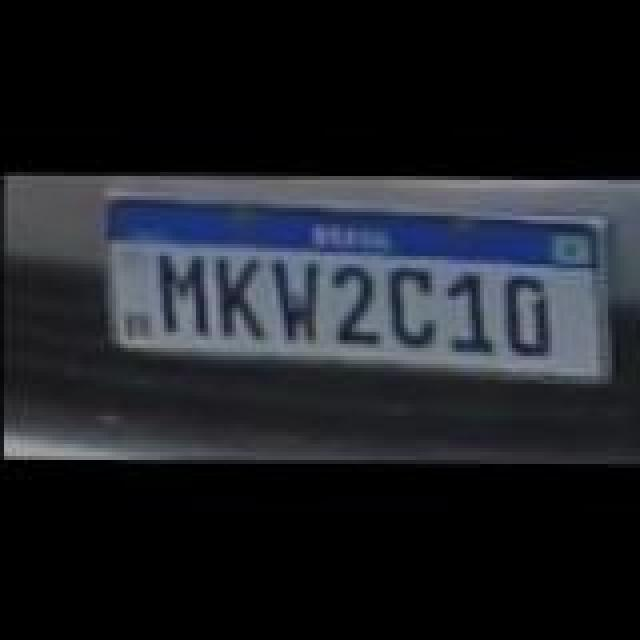1: (448, 270, 500, 354)
2: (326, 262, 382, 342)
C: (382, 268, 438, 348)
D: (504, 270, 556, 354)
K: (212, 254, 272, 338)
M: (154, 250, 218, 334)
W: (270, 256, 326, 340)
